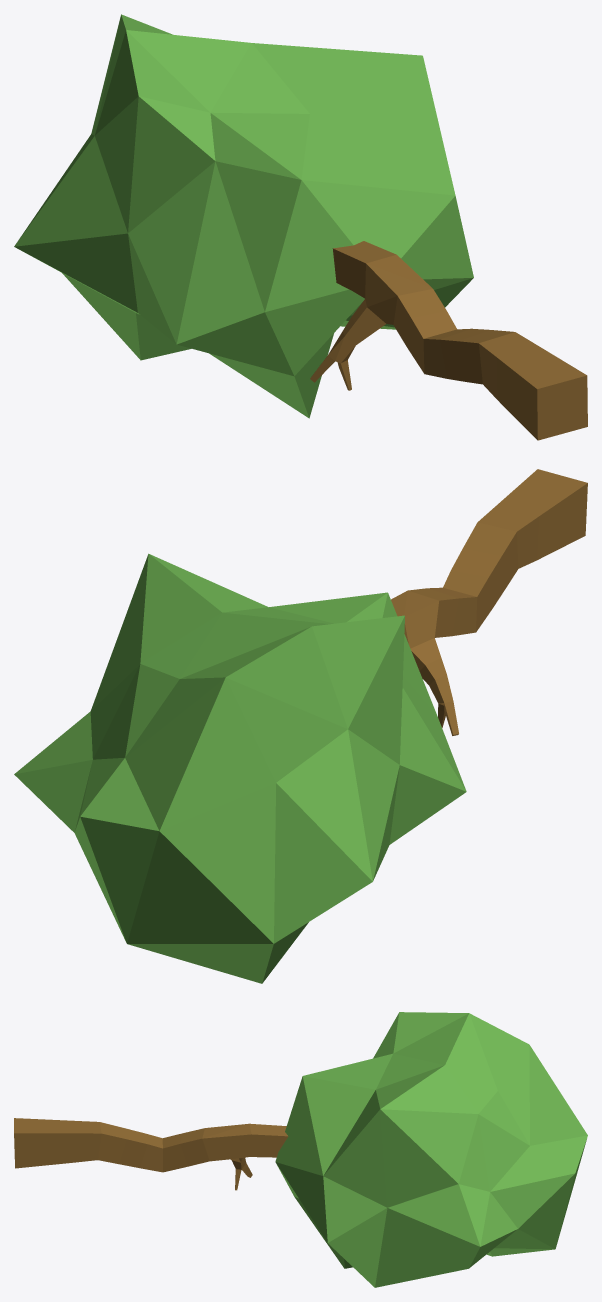
Rendered from Terrain_tree5.fbx.
3 views of the same model, one above another, from view 1: azimuth 30°, elevation 25°; view 2: azimuth 150°, elevation 25°; view 3: azimuth 270°, elevation 25° (orthographic). The views are drawn at different scales.
Visible parts, largest first — view 1: Icosphere; view 2: Icosphere; view 3: Icosphere.
Boxes of the visible parts, box(x1,y1,x2,y2) form: Icosphere: box(14, 14, 587, 440); Icosphere: box(14, 469, 587, 983); Icosphere: box(14, 1012, 587, 1287).
Size of the model in its own units: 22767 by 20387 by 45512.
